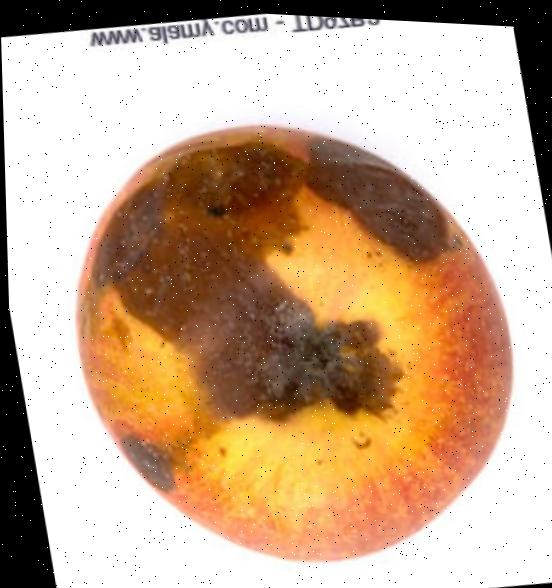ROT: (36, 57, 546, 588)
